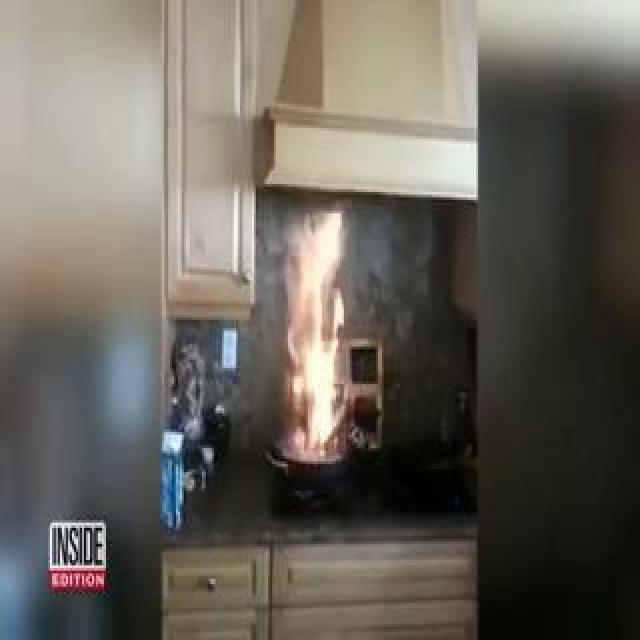Fire: (273, 226, 363, 474)
